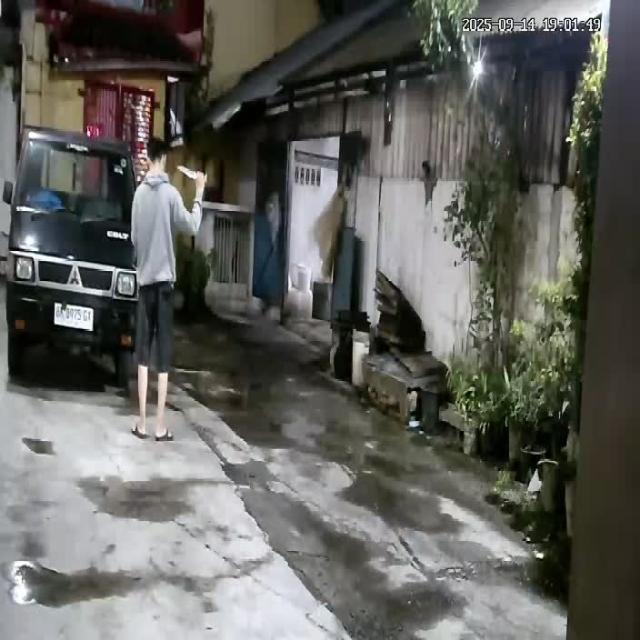senjata_tajam: (175, 162, 198, 182)
